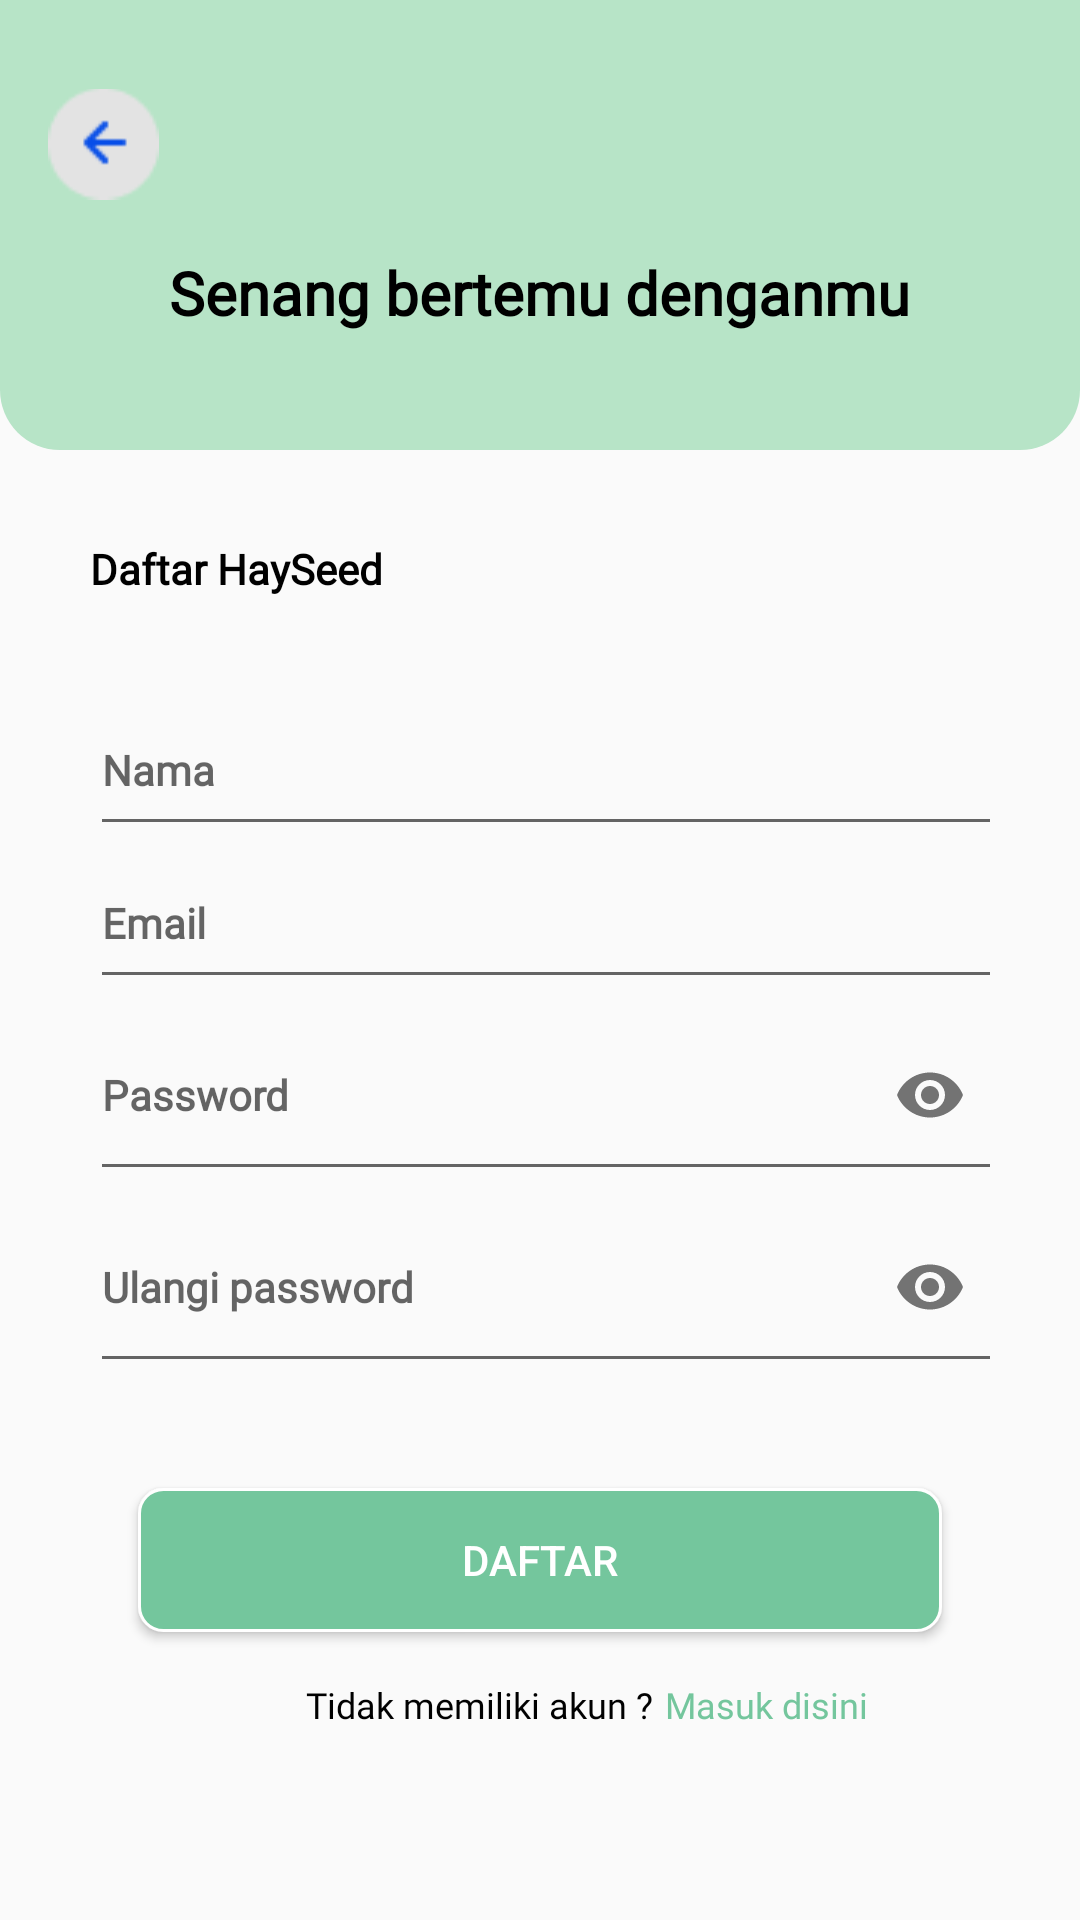

Point at icon controls on the screen. Image size 1080 x 1920, points as point (x, y).
kembali: point (103, 144)
